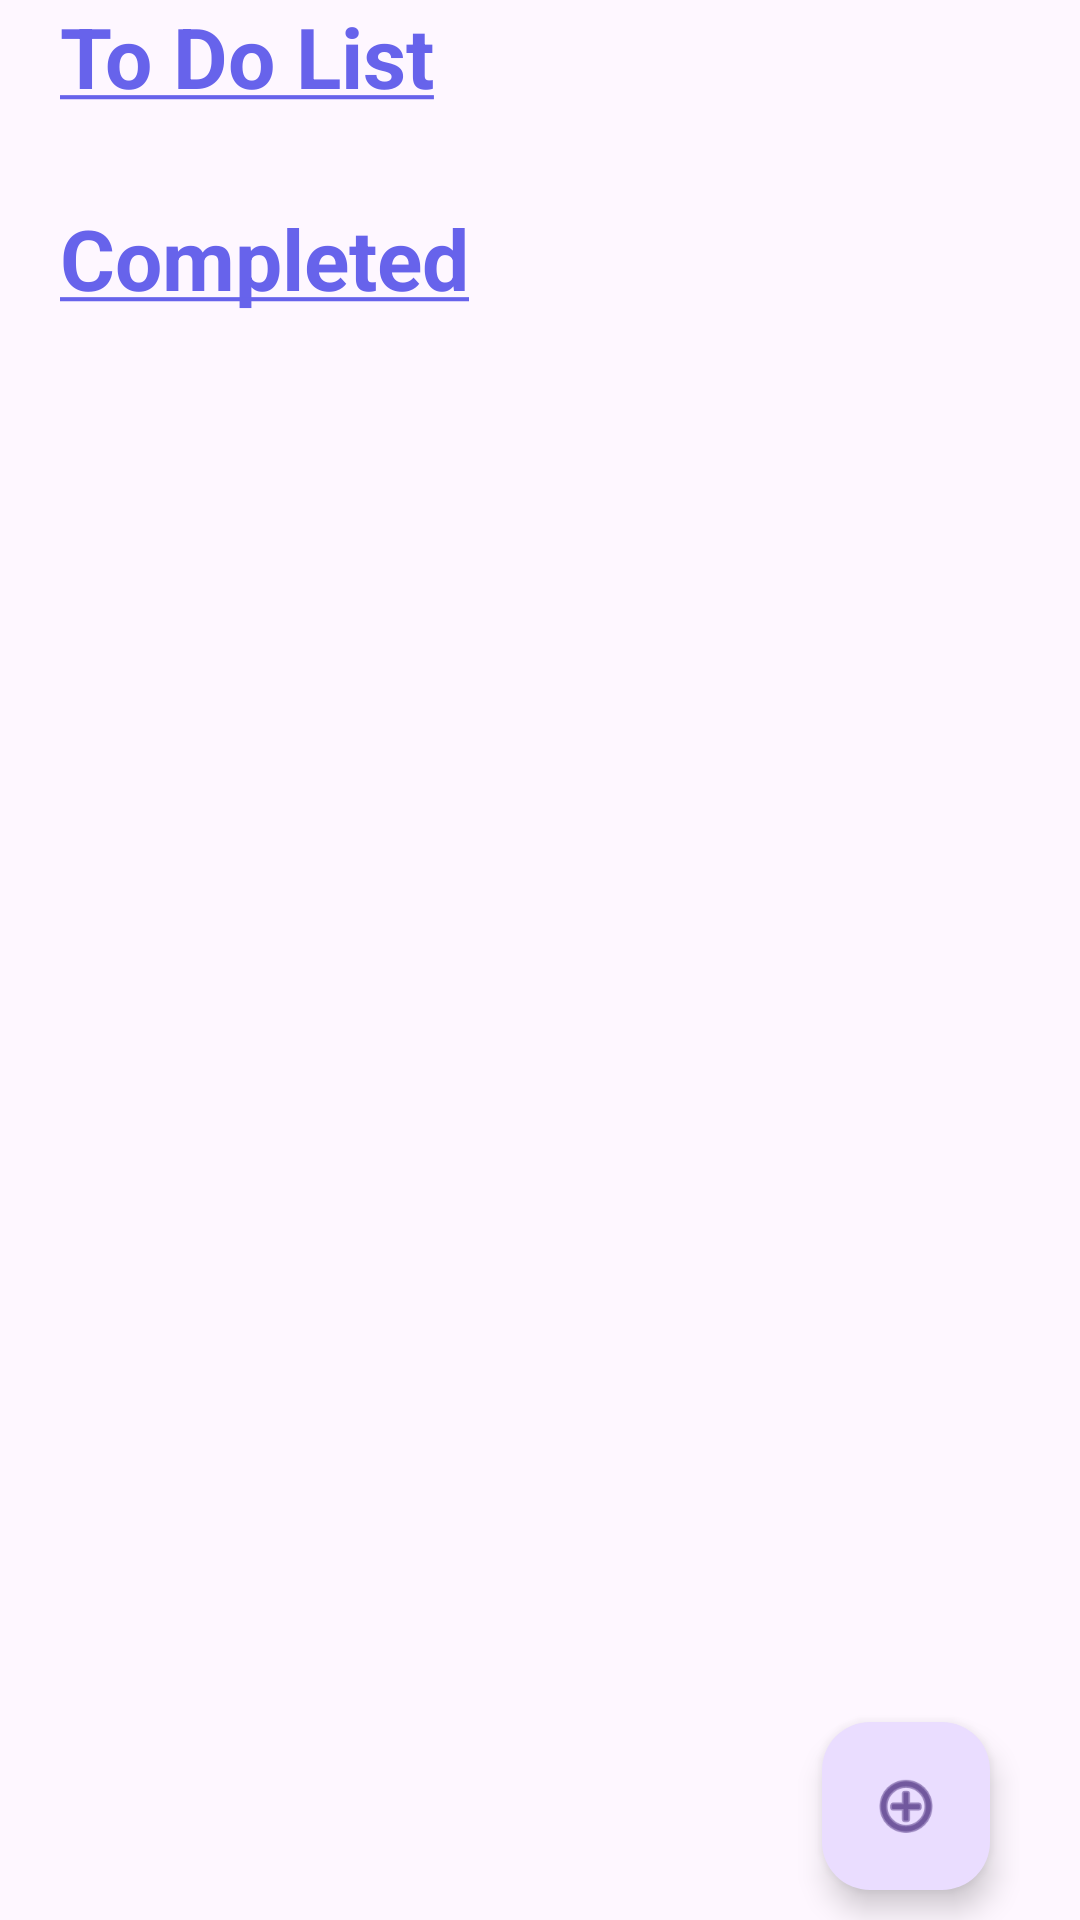

Locate icon controls on the screen. Image size 1080w x 1920h, boxes as (x1, y1, x2, y2).
Create New Task: (822, 1722, 990, 1890)
